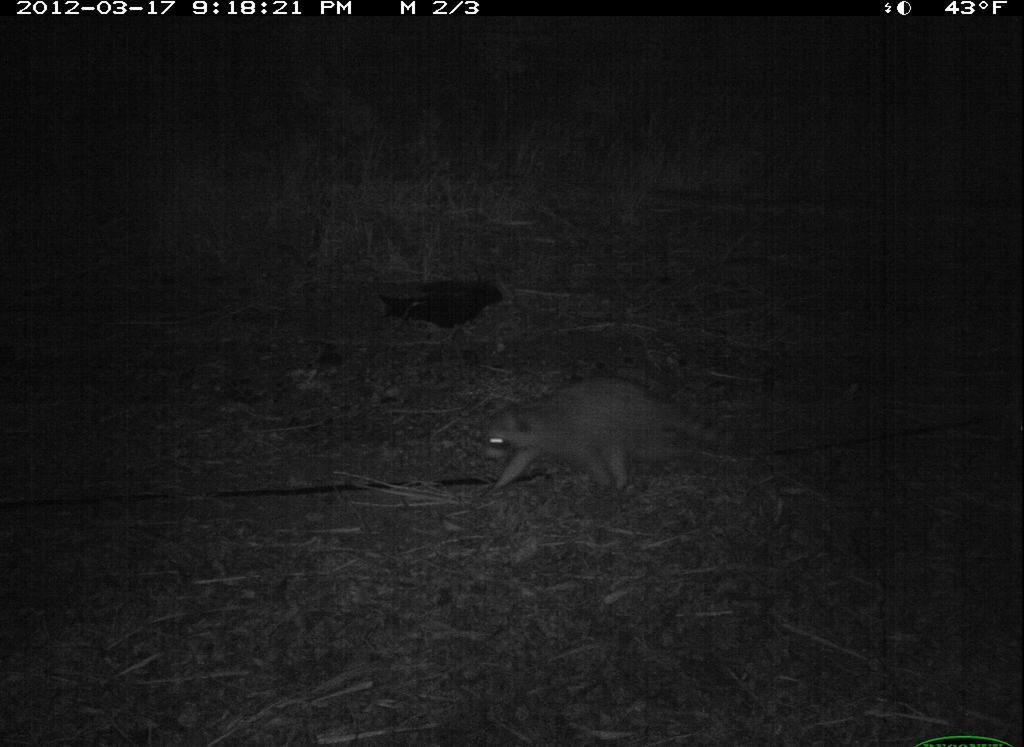raccoon: (469, 372, 737, 510)
